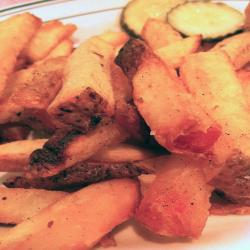fries: (1, 18, 232, 225)
